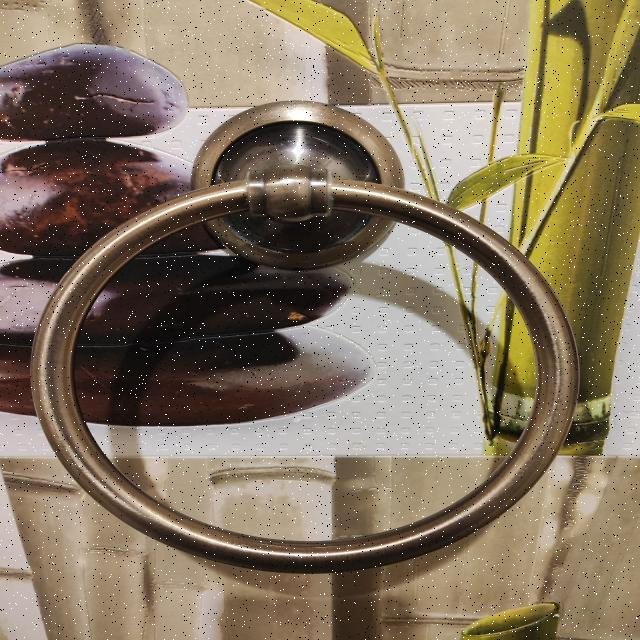Circle: (28, 173, 586, 578), (192, 99, 403, 271)
